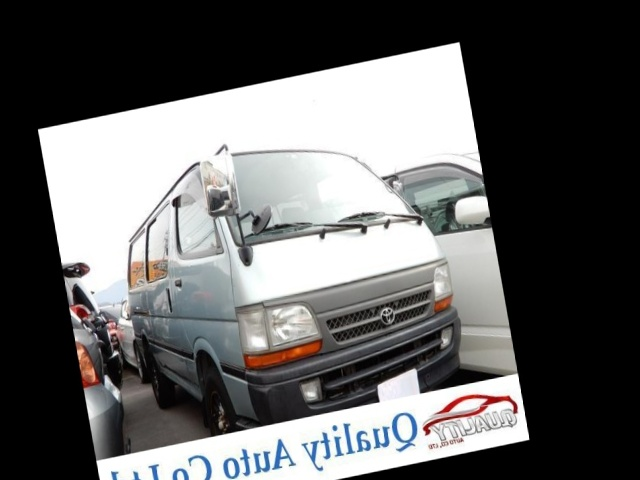van: (96, 107, 471, 459)
